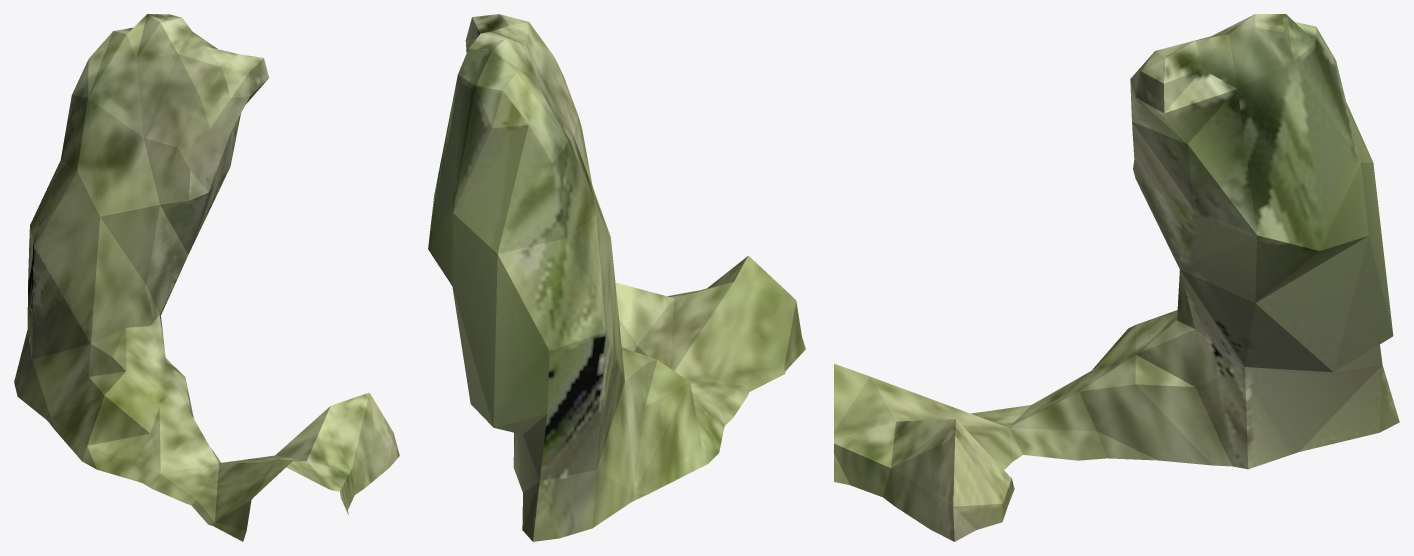
3 renders of one model, left to right at view 1: azimuth 30°, elevation 25°; view 2: azimuth 150°, elevation 25°; view 3: azimuth 270°, elevation 25°, orthographic. The views are drawn at different scales.
Bounding box in the file's own units: 0.8952 × 1.31 × 1.46.
Materials: 1 (1 with a texture image).
